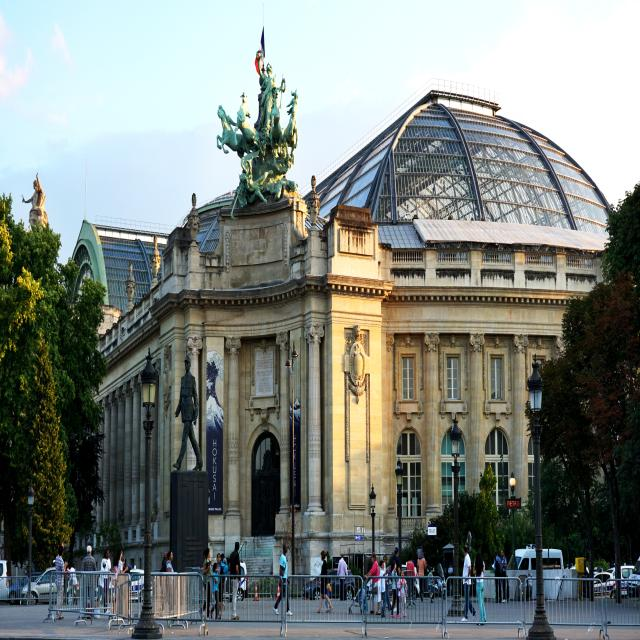body: (226, 48, 297, 208), (171, 351, 204, 473), (198, 547, 218, 620), (273, 543, 293, 616), (110, 547, 129, 620), (158, 550, 177, 620), (81, 545, 97, 619), (461, 544, 476, 622), (54, 542, 68, 620), (228, 542, 242, 620), (316, 550, 333, 614), (364, 552, 381, 615), (20, 171, 46, 209), (473, 551, 486, 626), (95, 558, 110, 614), (379, 553, 392, 611), (100, 548, 112, 608), (390, 560, 402, 618), (390, 547, 400, 612), (404, 554, 418, 600), (491, 549, 502, 603), (209, 562, 219, 620), (337, 553, 348, 602), (417, 550, 427, 603), (216, 553, 224, 619), (379, 560, 388, 618), (68, 562, 78, 606), (398, 569, 407, 617), (501, 548, 507, 602), (426, 566, 434, 603), (324, 577, 332, 613), (62, 560, 68, 606), (417, 542, 428, 566), (448, 562, 453, 576), (162, 557, 166, 569)
